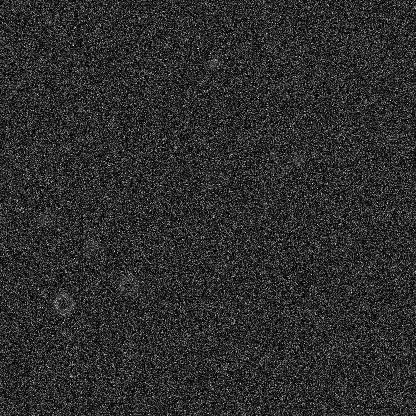Ring: (51, 291, 75, 315), (116, 274, 140, 298), (202, 167, 226, 191)
Spot: (7, 74, 23, 90), (205, 54, 221, 70), (288, 151, 304, 167), (35, 211, 51, 227), (83, 236, 99, 252)
